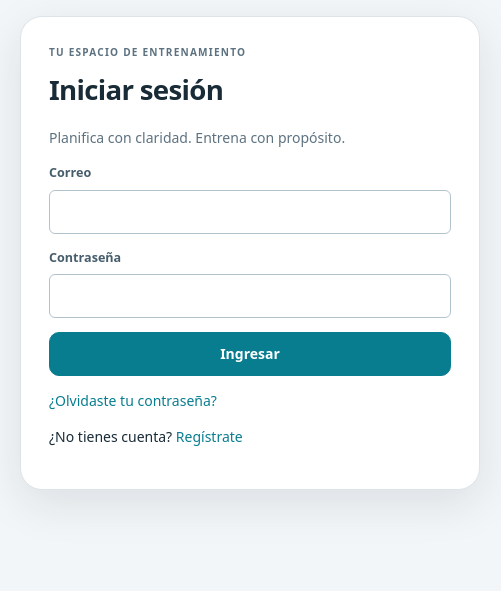
Test: LoginPage › muestra el mensaje de error del backend y conserva los valores ingresados
This screenshot has width=501, height=591.
Type "alumno@example.com" into the field labelled "Correo" at coordinates (250, 212), box [49,190,451,234]
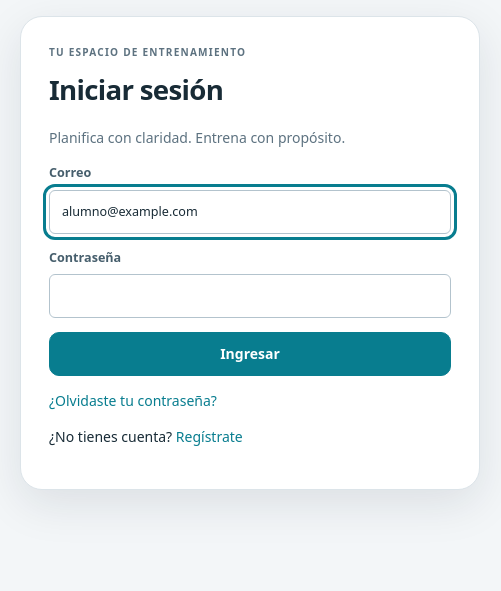
Type "clave-incorrecta" into the password field labelled "Contraseña" at coordinates (250, 296), box [49,274,451,318]
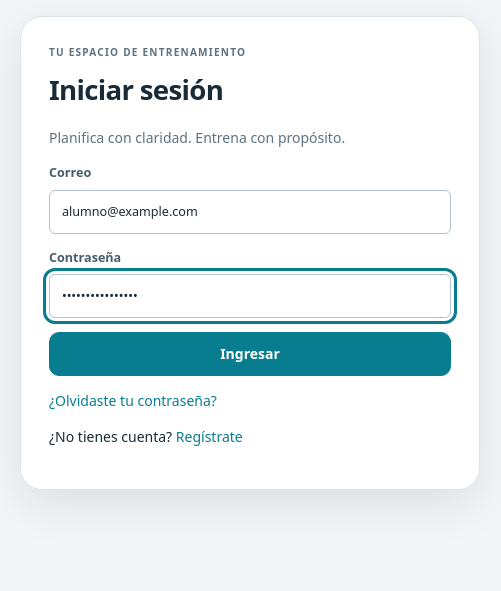
Click the button "Ingresar" at coordinates (250, 354), box [49,332,451,376]
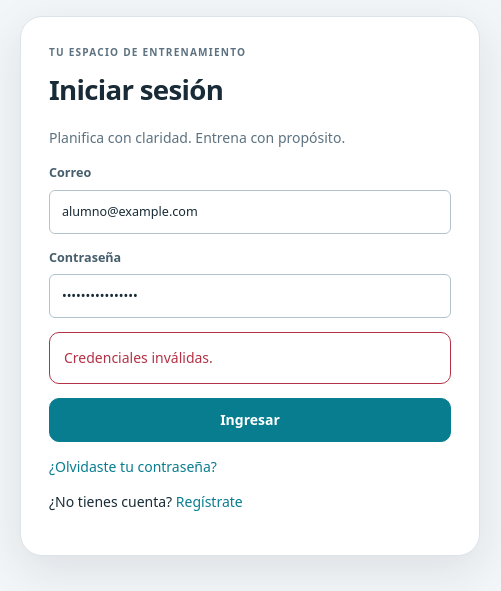
Expected: the message reads "Credenciales inválidas.", [64,348,213,367]
